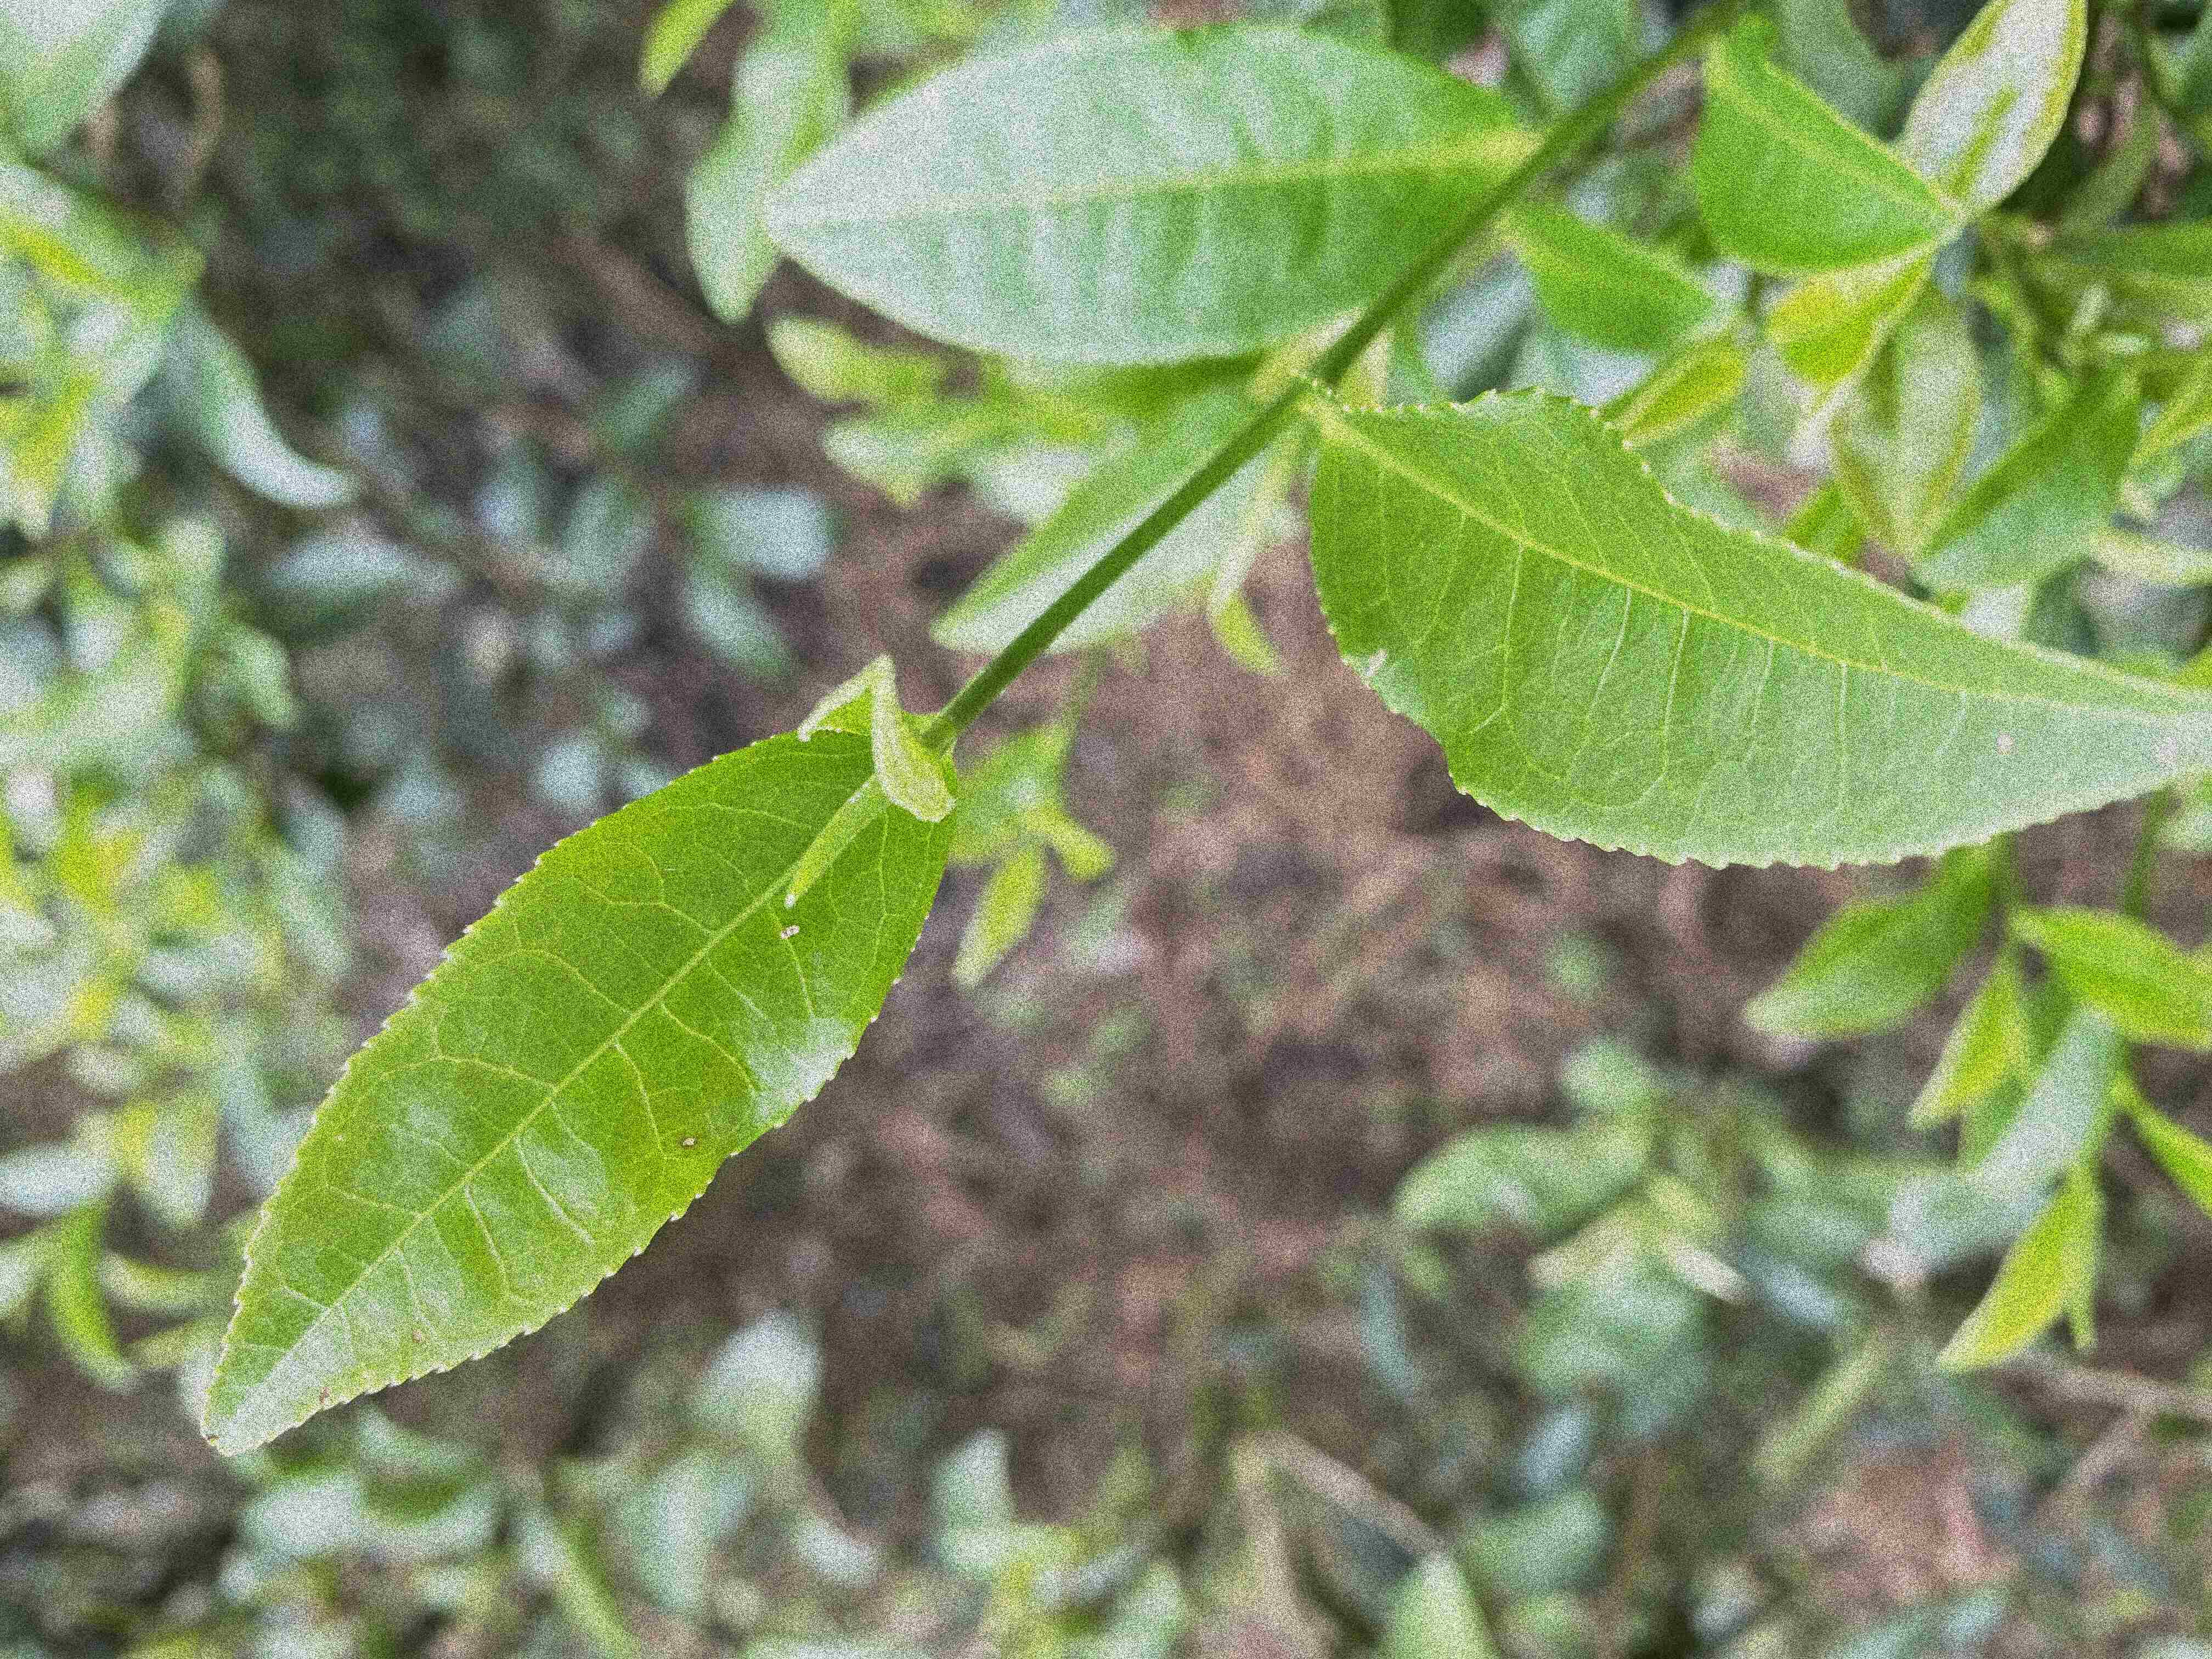tanju_low: (199, 718, 956, 1455), (1291, 369, 2210, 873)
